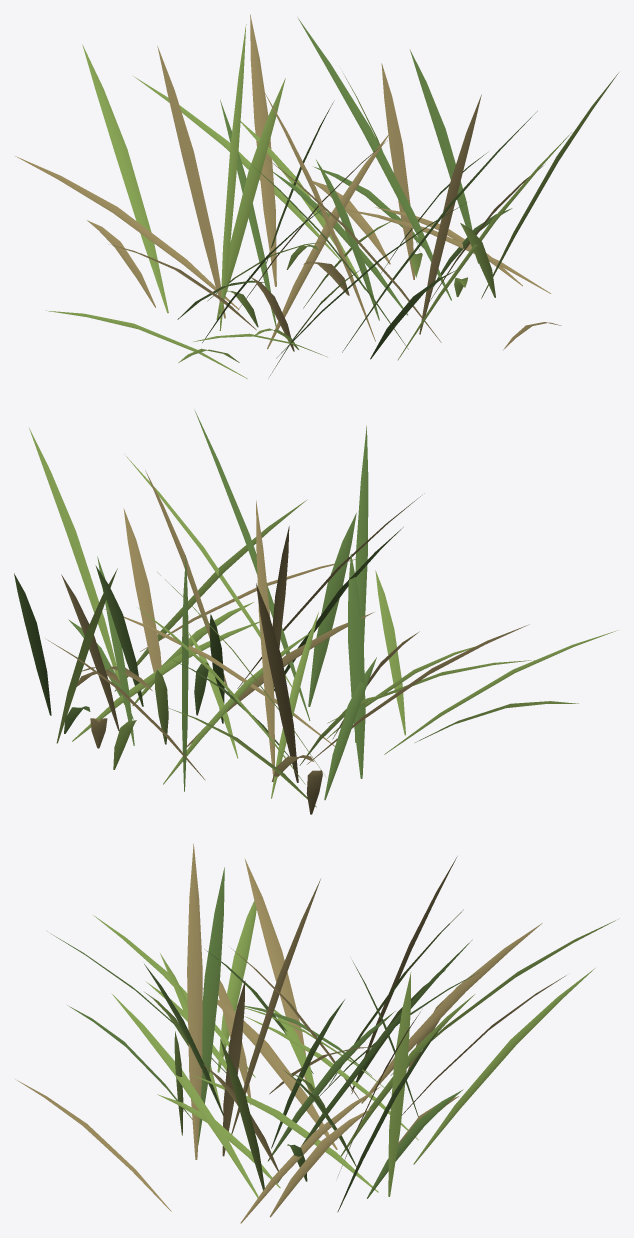
Rendered from sc_tussock.glb.
3 renders of one model, top to bottom at view 1: azimuth 30°, elevation 25°; view 2: azimuth 150°, elevation 25°; view 3: azimuth 270°, elevation 25°, orthographic. The views are drawn at different scales.
Parts seen in each view (by area): view 1: sc_tussock; view 2: sc_tussock; view 3: sc_tussock.
Part boxes in pixels (x1=…): sc_tussock: x1=15, y1=14, x2=618, y2=378; sc_tussock: x1=14, y1=410, x2=617, y2=814; sc_tussock: x1=15, y1=843, x2=619, y2=1223.
Size of the model in its own units: 1.77 by 0.7202 by 1.7.
